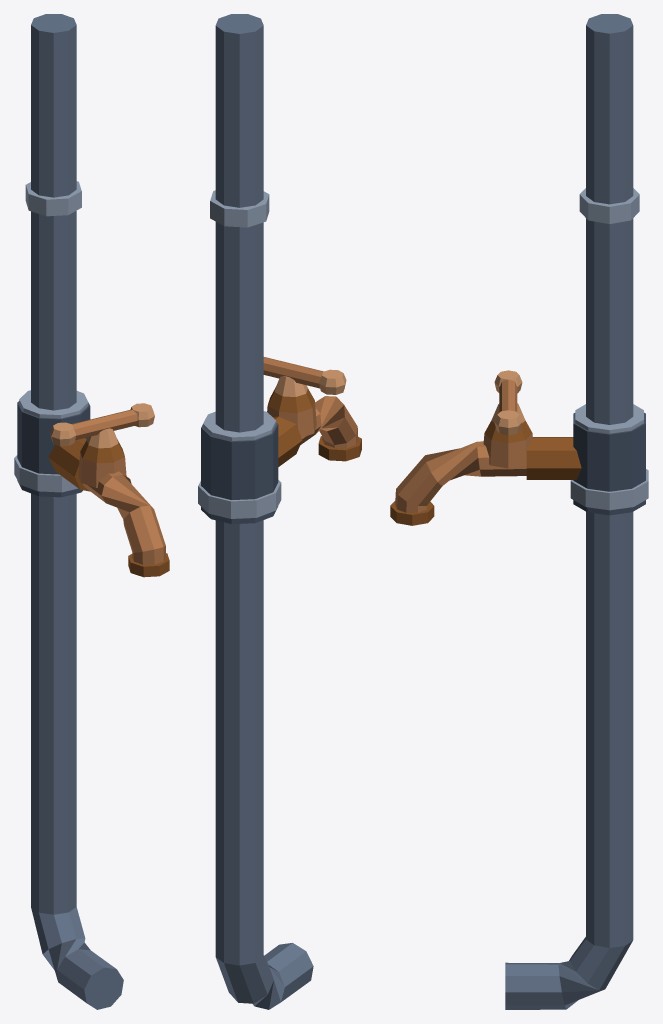
File: object-gripo.glb
The picture shows the model from 3 angles, left to right: view 1: azimuth 30°, elevation 25°; view 2: azimuth 150°, elevation 25°; view 3: azimuth 270°, elevation 25°; orthographic projection. The views are drawn at different scales.
Visible parts, largest first — view 1: Bathroom - Gripo; view 2: Bathroom - Gripo; view 3: Bathroom - Gripo.
Boxes of the visible parts, x1,y1,x2,y2 form: Bathroom - Gripo: [14, 14, 169, 1009]; Bathroom - Gripo: [198, 14, 361, 1009]; Bathroom - Gripo: [390, 14, 648, 1009].
Bounding box in the file's own units: 0.122 × 1.08 × 0.258.
1 material, 1 textured.
